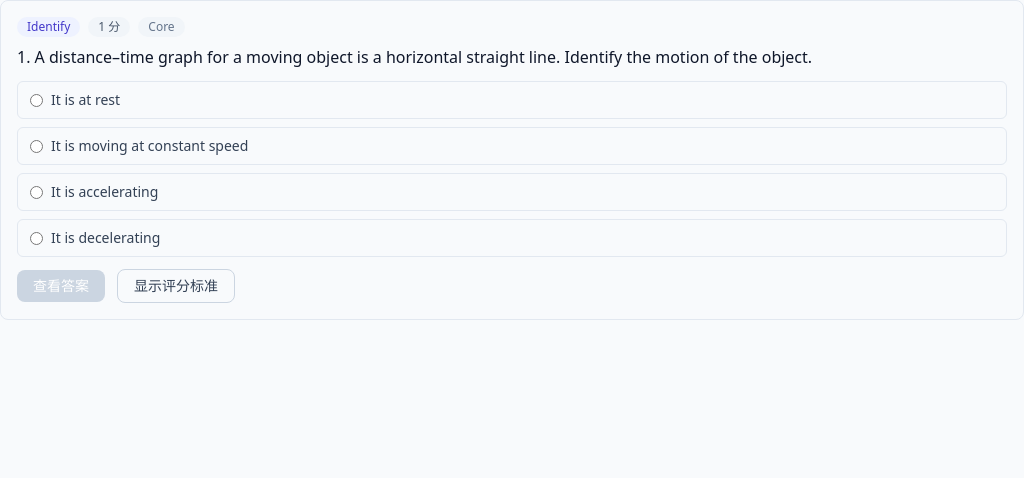
ExamPracticeSection 组件 › MCQ：选对显示正确
Click the radio button labelled "It is at rest" at coordinates (36, 100), box [30,94,43,106]
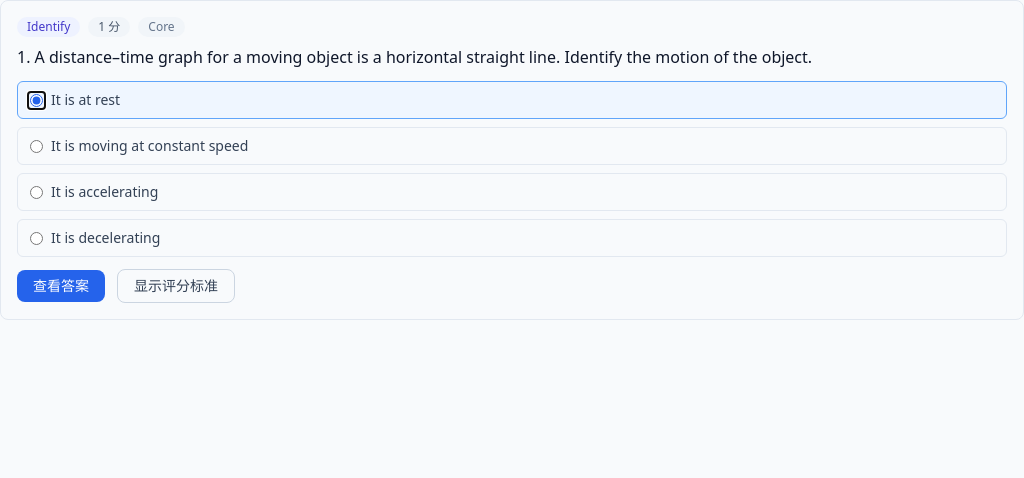
Click the button "查看答案" at coordinates (61, 286), box [17,270,105,302]
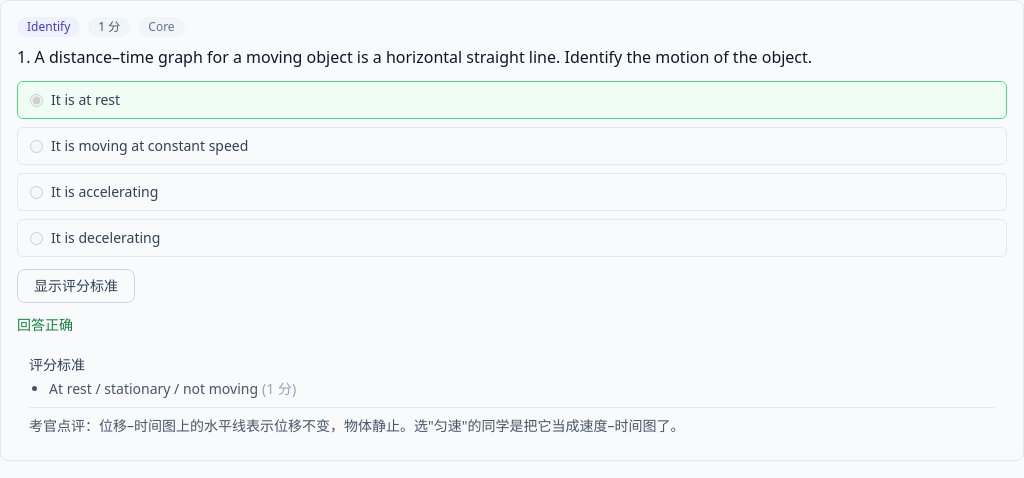
Now the text "回答正确" is shown, box [17,315,73,334]
